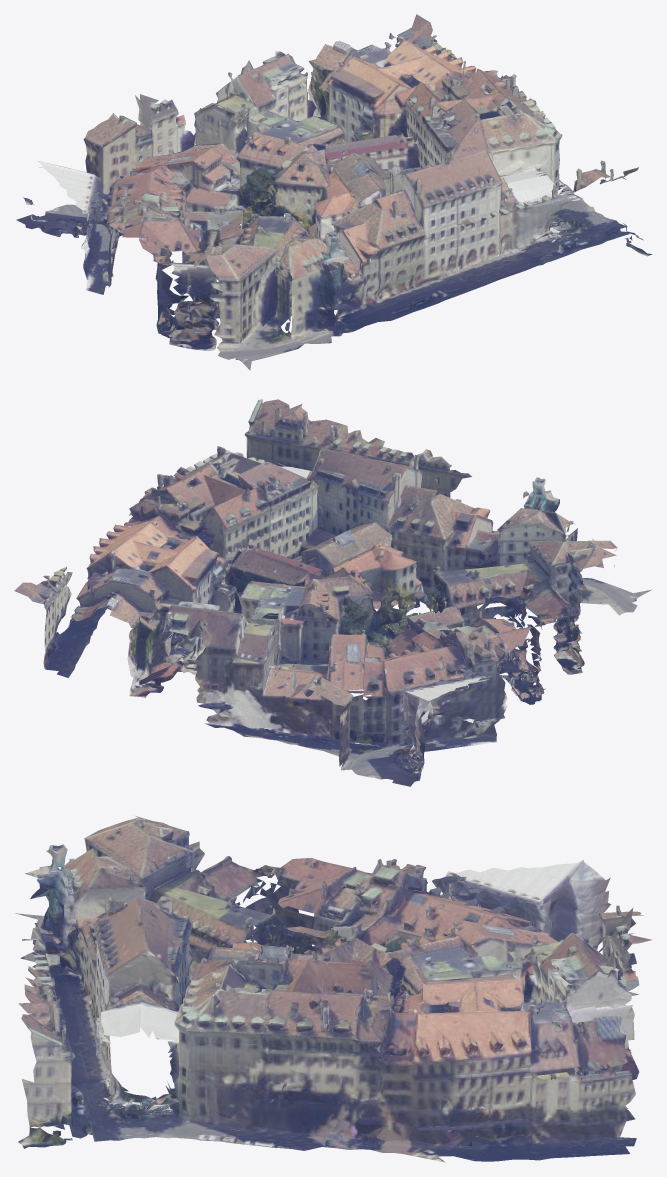
3 views of the same model, one above another, from view 1: azimuth 30°, elevation 25°; view 2: azimuth 150°, elevation 25°; view 3: azimuth 270°, elevation 25° (orthographic). The views are drawn at different scales.
Bounding box in the file's own units: 108 × 39.45 × 109.
Materials: 1 (1 with a texture image).
